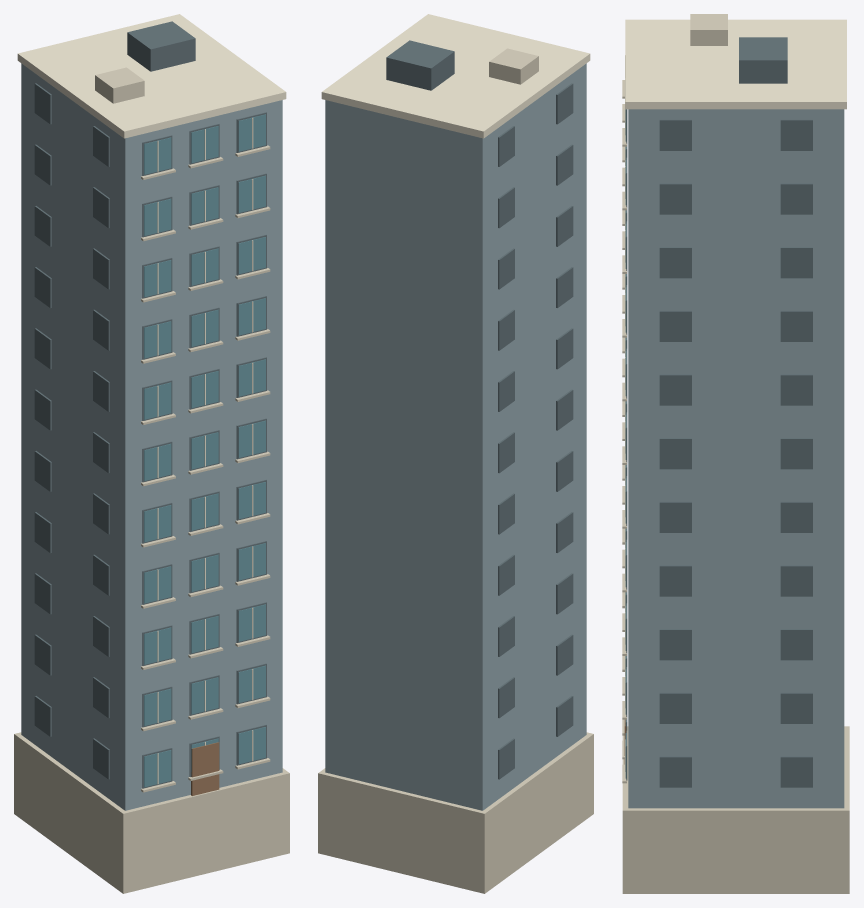
File: tower-3.glb
3 views of the same model, side by side, from view 1: azimuth 30°, elevation 25°; view 2: azimuth 150°, elevation 25°; view 3: azimuth 270°, elevation 25° (orthographic). The views are drawn at different scales.
Bounding box in the file's own units: 7.4 × 33.25 × 8.42.
